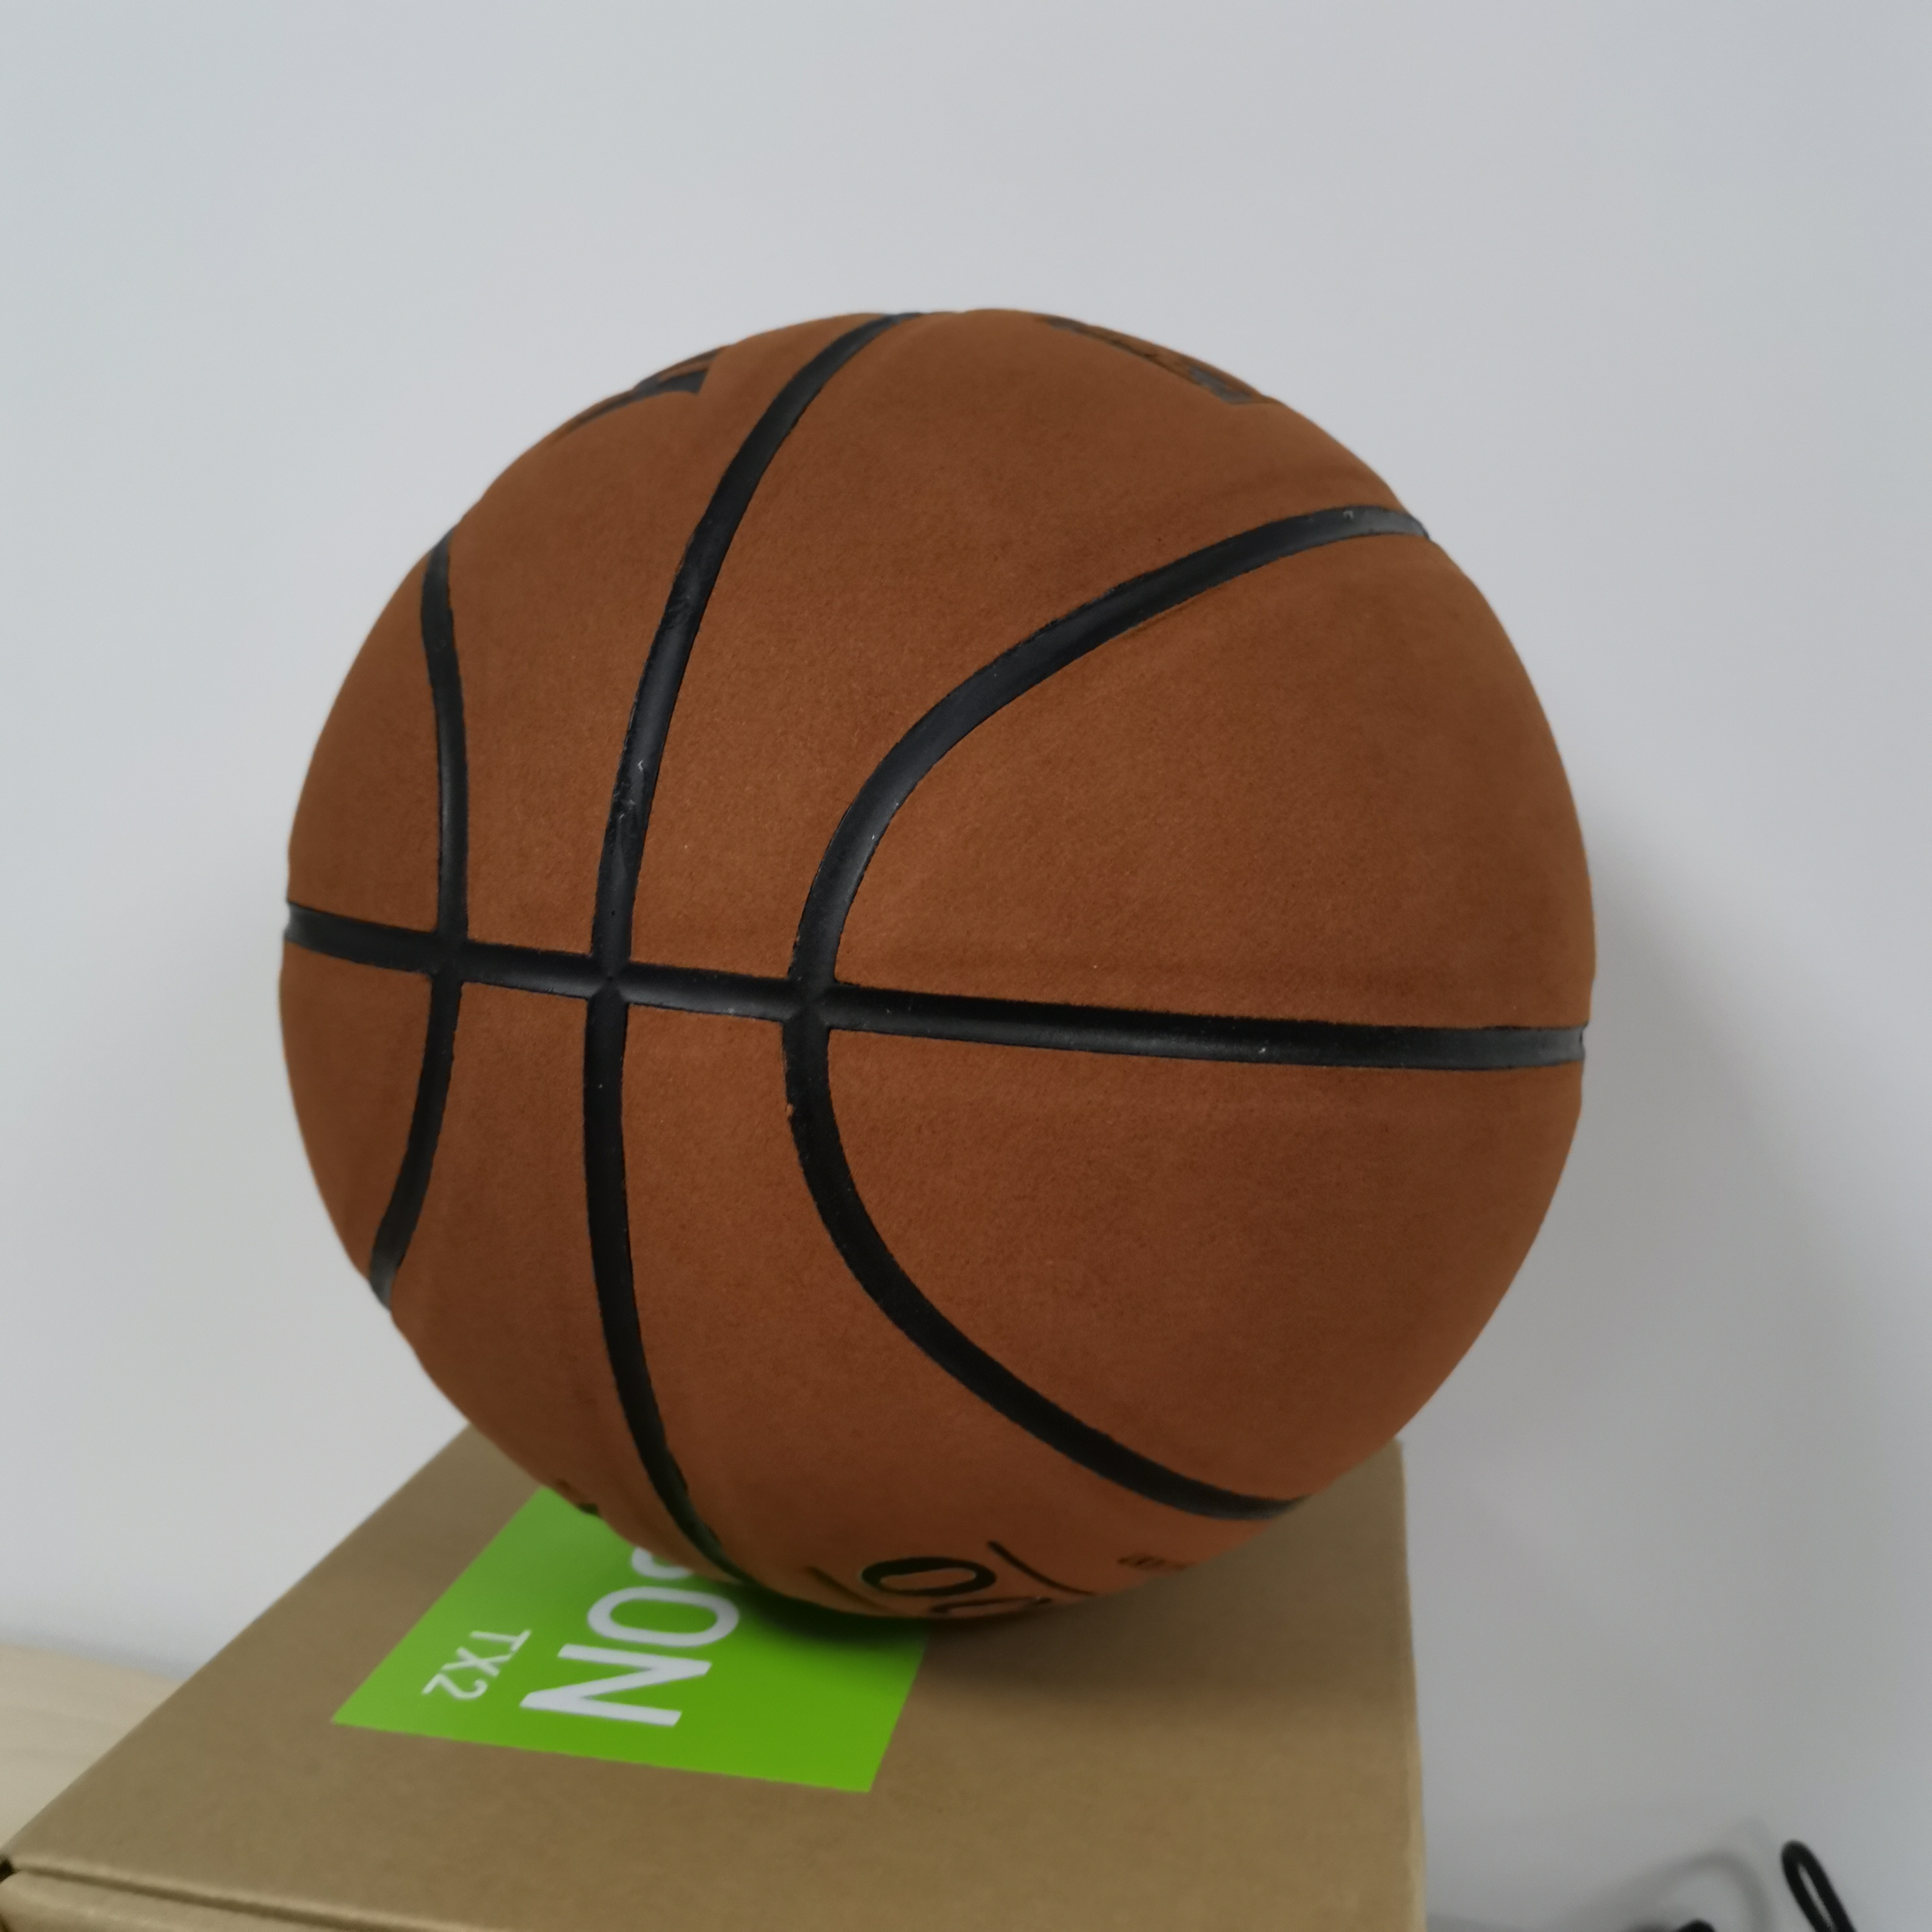basketball: (276, 299, 1585, 1635)
